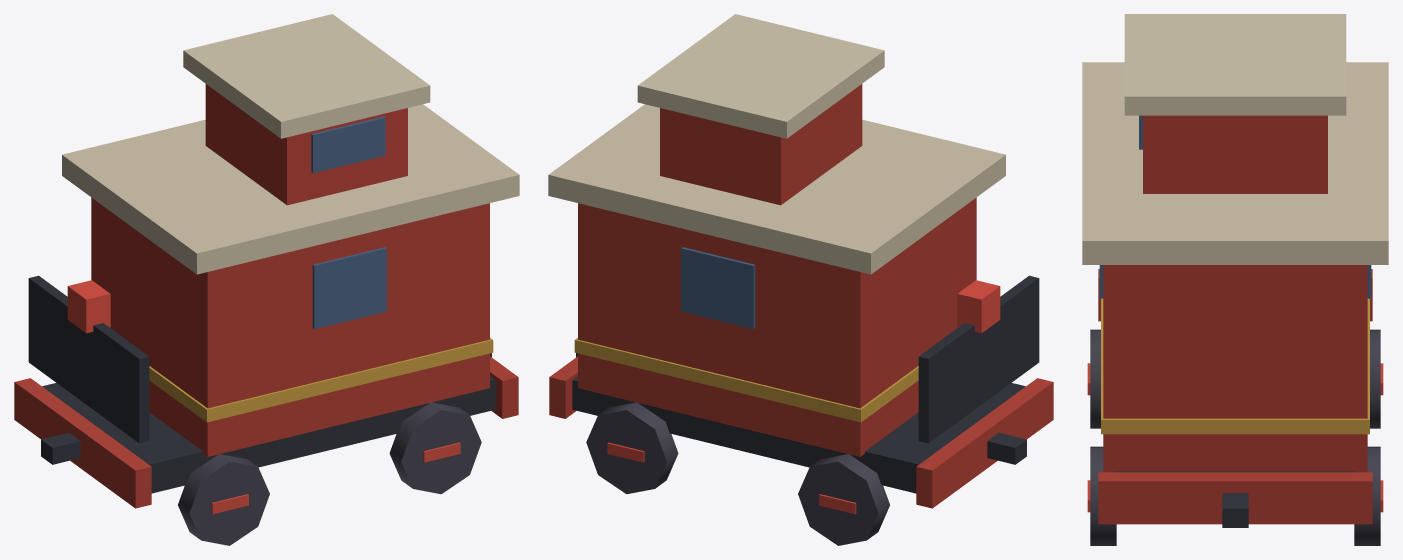
Rendered from car_08.glb.
3 views of the same model, side by side, from view 1: azimuth 30°, elevation 25°; view 2: azimuth 150°, elevation 25°; view 3: azimuth 270°, elevation 25° (orthographic). The views are drawn at different scales.
Parts seen in each view (by area): view 1: car_08, Wheel3, Wheel1; view 2: car_08, Wheel2, Wheel0; view 3: car_08, Wheel2, Wheel3, Wheel0, Wheel1.
Boxes of the visible parts, x1=… form: car_08: x1=14, y1=14, x2=519, y2=508; Wheel3: x1=389, y1=402, x2=481, y2=494; Wheel1: x1=178, y1=454, x2=269, y2=545; car_08: x1=548, y1=14, x2=1053, y2=508; Wheel2: x1=586, y1=402, x2=678, y2=494; Wheel0: x1=798, y1=454, x2=889, y2=545; car_08: x1=1082, y1=14, x2=1388, y2=527; Wheel2: x1=1354, y1=446, x2=1383, y2=545; Wheel3: x1=1087, y1=446, x2=1116, y2=545; Wheel0: x1=1370, y1=329, x2=1383, y2=428; Wheel1: x1=1087, y1=329, x2=1100, y2=428.
Size of the model in its own units: 2.18 by 1.88 by 1.16.
